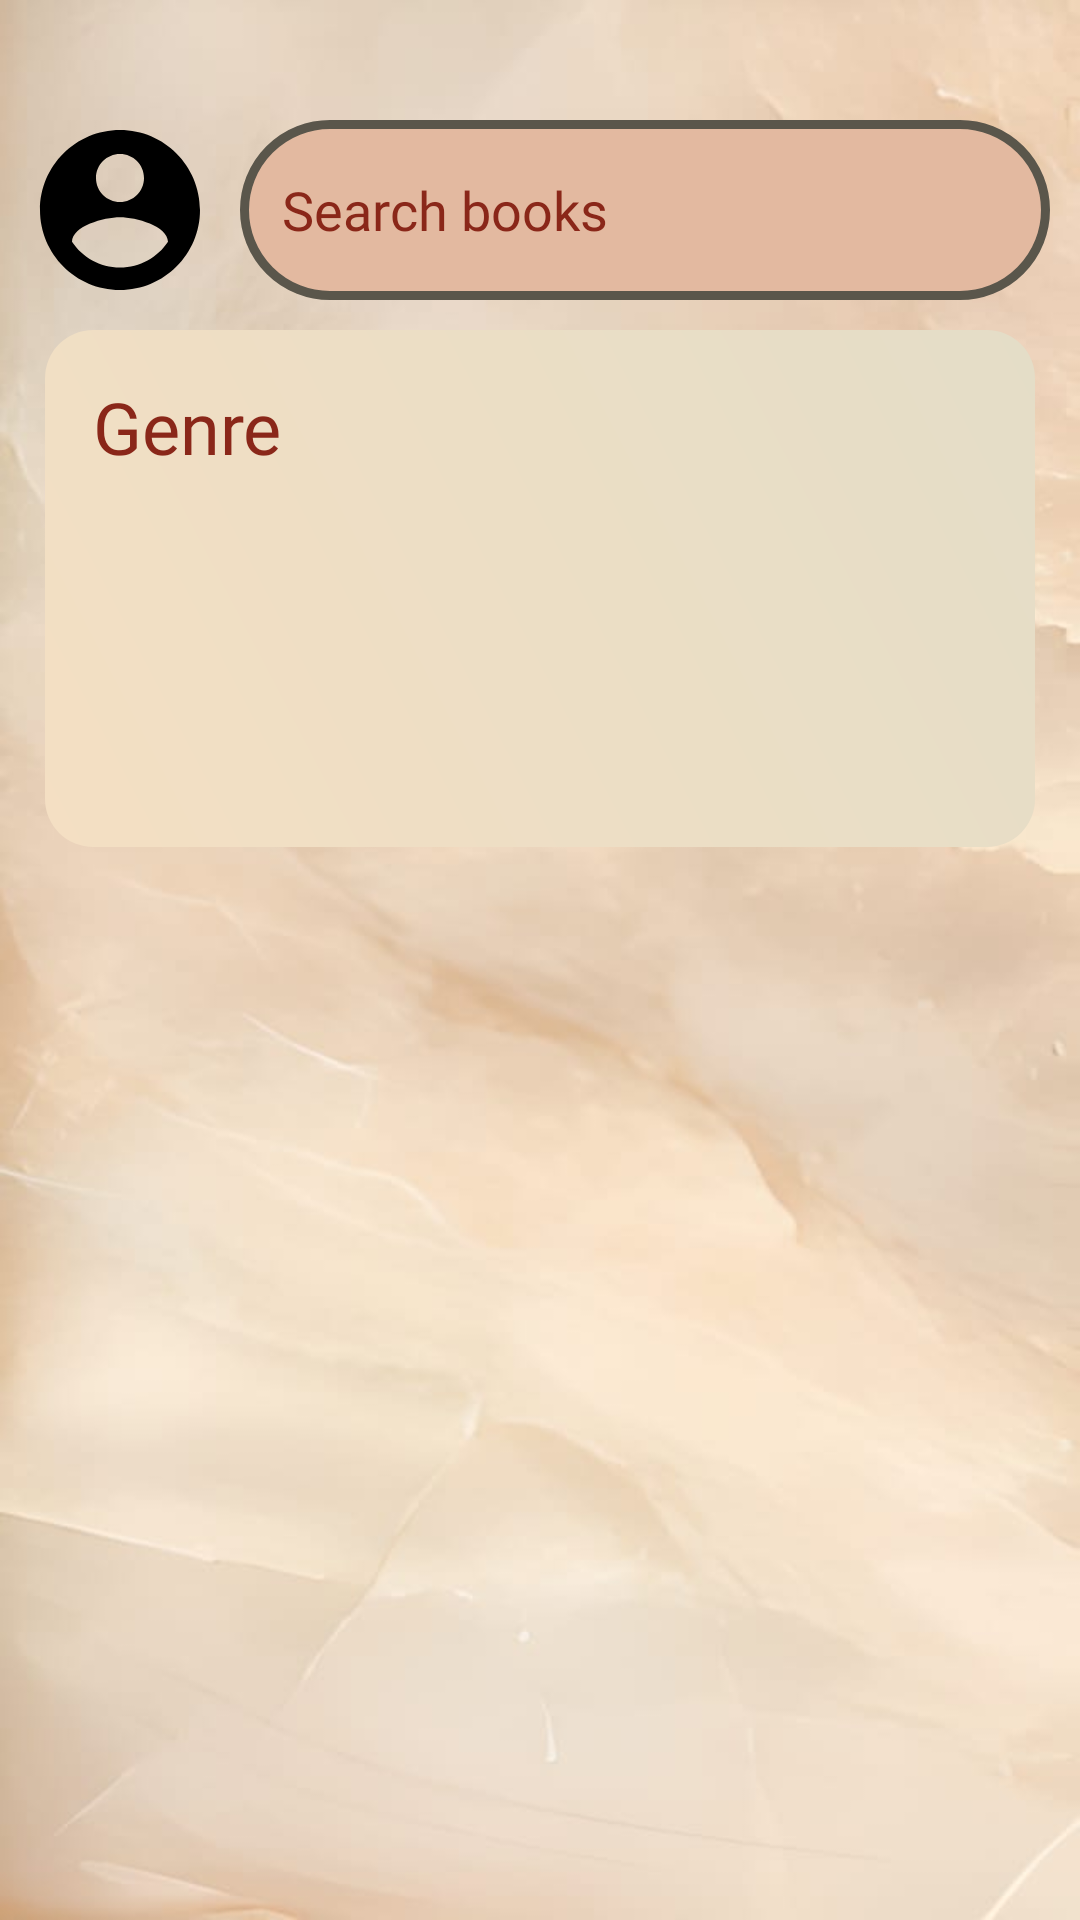

Screen size 1080px×1920px. Icon name, then its center in pixels as point (x, y):
Profile: point (119, 210)
